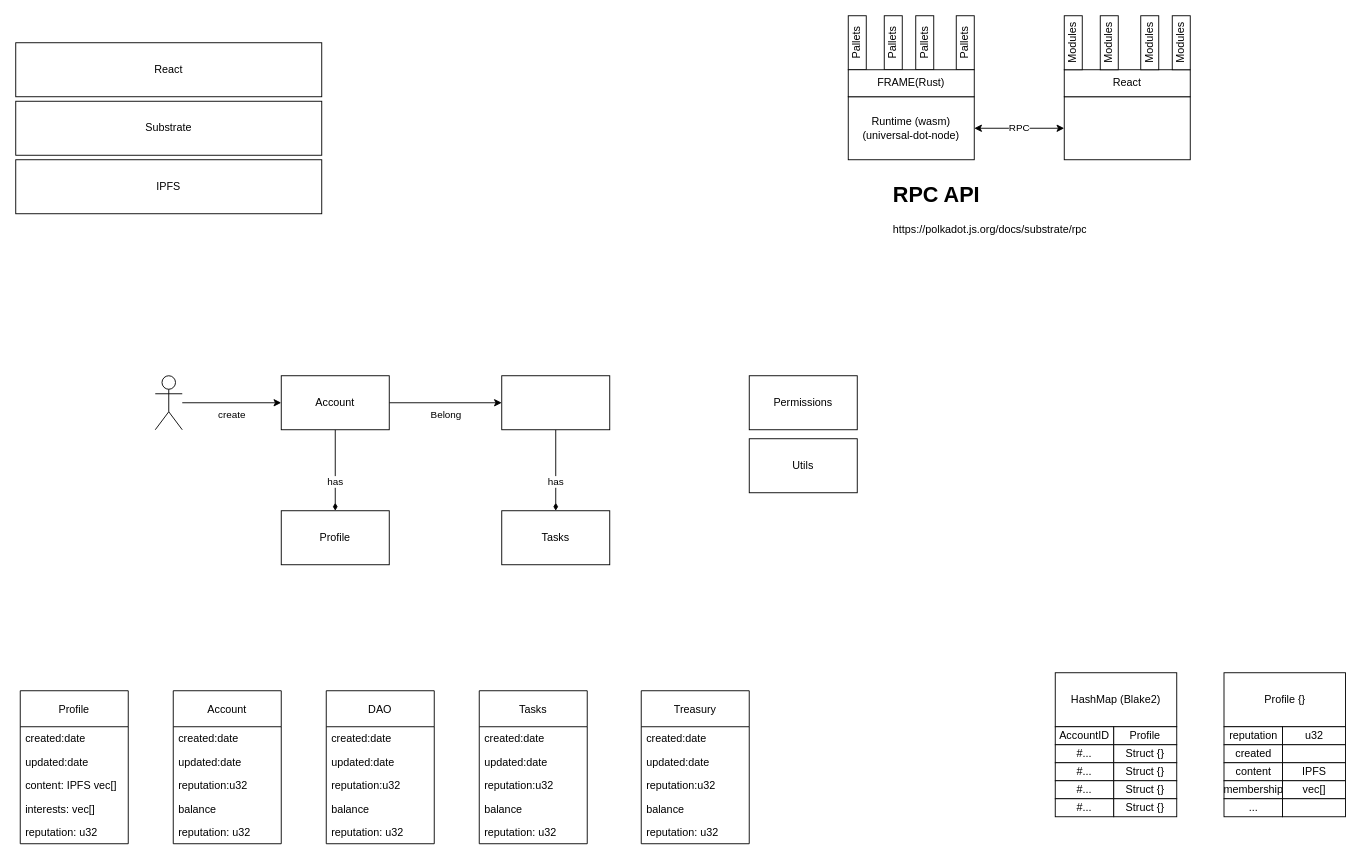
The diagram is 1362 pixels wide and 862 high, and some of its shapes have lost their labels. Here are the shapes that lost their labels. From the top down, the centre of each, then its label:
At pixel 1126 128: "App (universal-dot-front-end)".
At pixel 168 402: "User".
At pixel 555 402: "Decentralised Autonomous Organization (DAO)".
